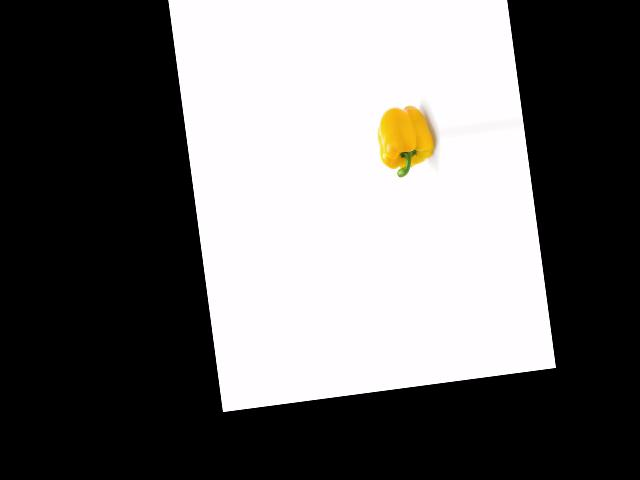bell_pepper: (371, 100, 438, 186)
